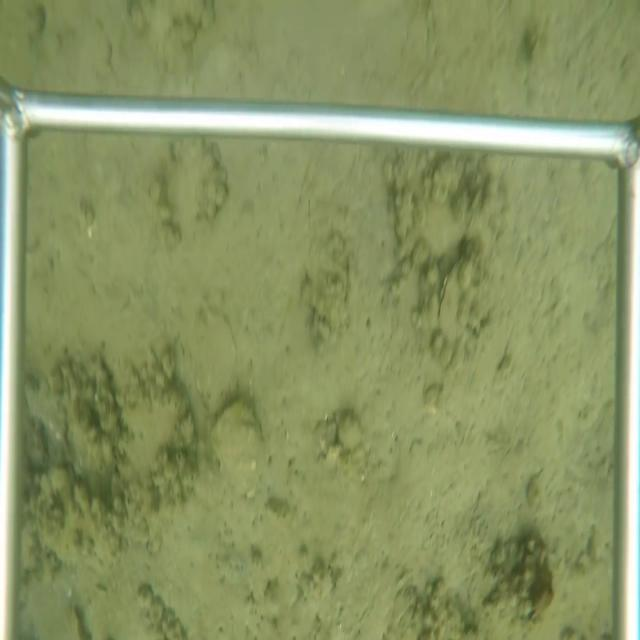Oyster-Closed: (437, 259, 470, 348)
Oyster-Indeterminate: (207, 394, 266, 502)
